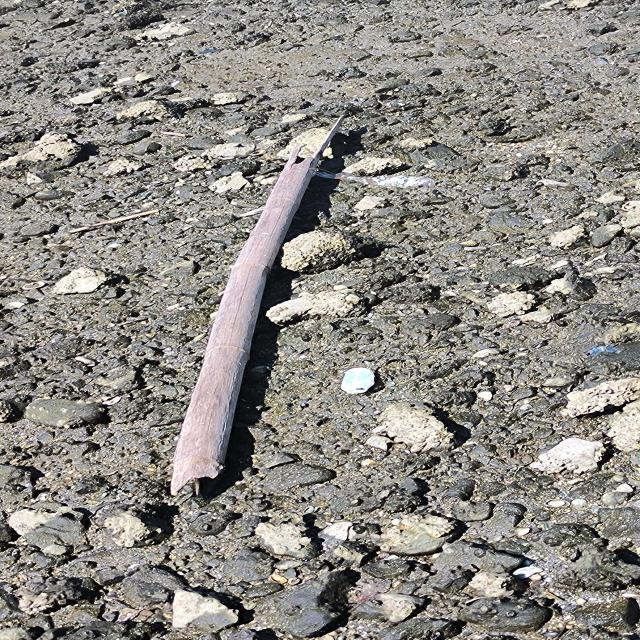wood_waste: (167, 115, 349, 499)
